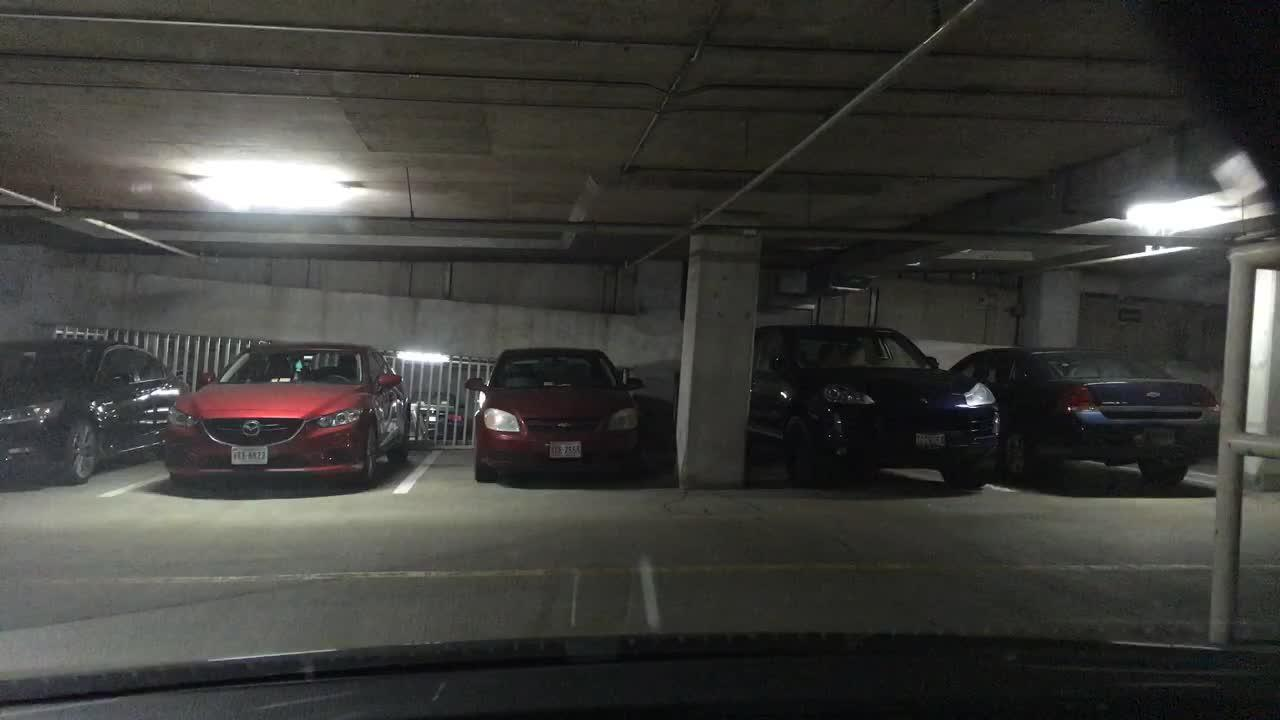Mazda: (240, 418, 265, 440)
